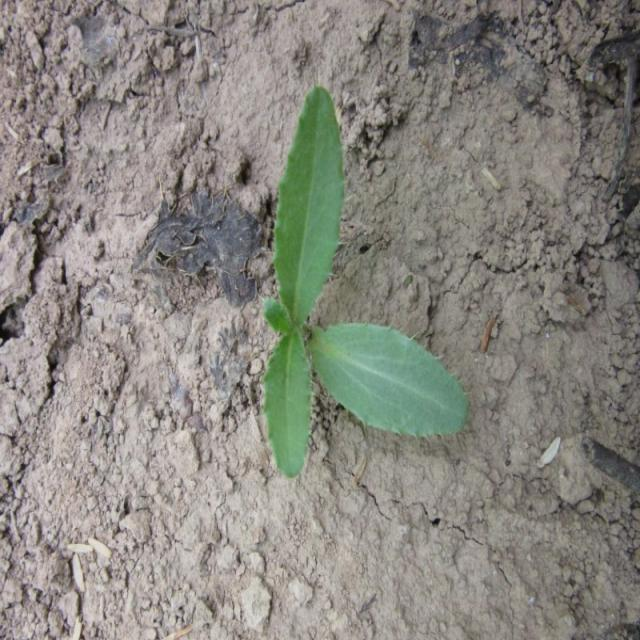cs: (259, 82, 473, 478)
